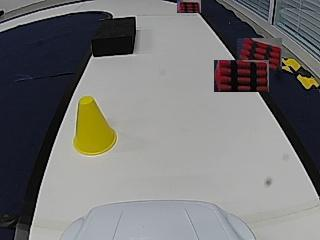block: (92, 16, 135, 56)
cone: (73, 96, 118, 155)
